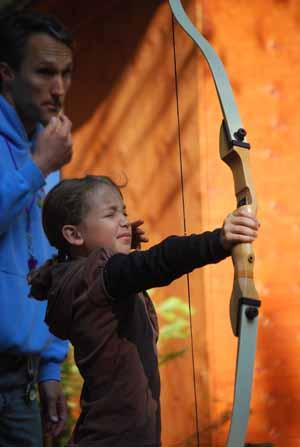person: (30, 174, 264, 444)
